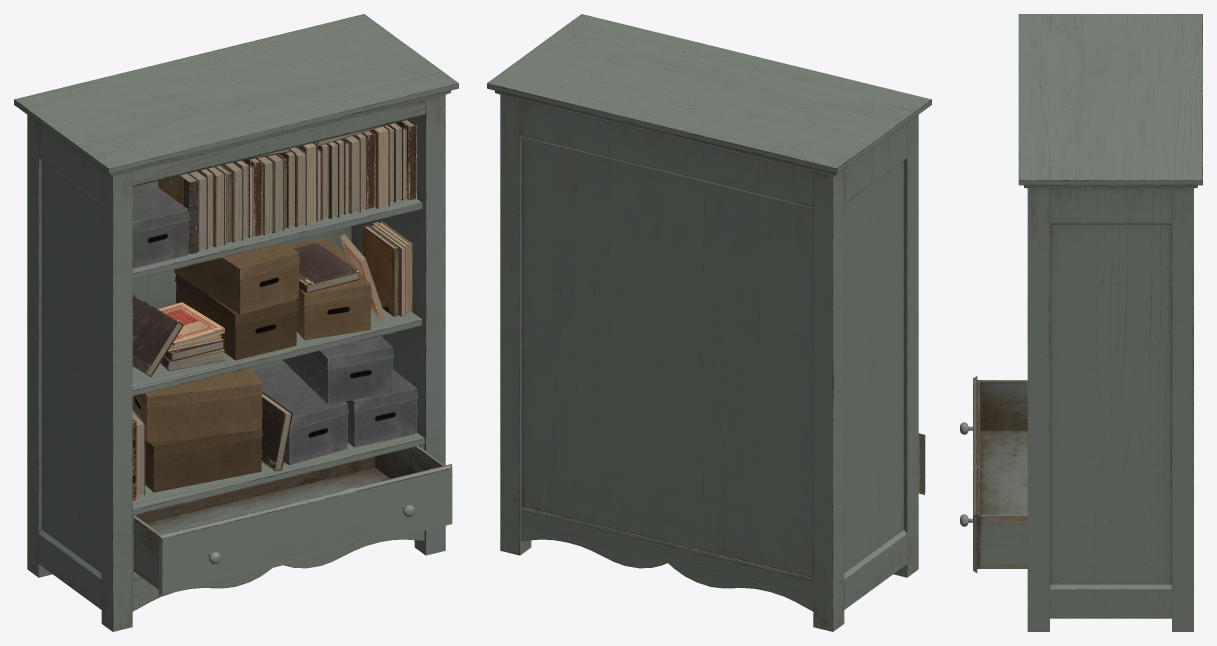
Rendered from wooden_shelf_with_drawer.glb.
3 renders of one model, left to right at view 1: azimuth 30°, elevation 25°; view 2: azimuth 150°, elevation 25°; view 3: azimuth 270°, elevation 25°, orthographic. The views are drawn at different scales.
Parts seen in each view (by area): view 1: Shelf, Drawer, Box.001, Box.004, Box, Box.007, Box.008, Box.002, Box.003, Box.005, Box.006, Book4.016 (+26 smaller); view 2: Shelf; view 3: Shelf, Drawer.
Part boxes in pixels (x1,y1,x2,y2): Shelf: (14, 14, 458, 631); Drawer: (133, 446, 452, 595); Box.001: (132, 367, 263, 442); Box.004: (174, 243, 300, 314); Box: (145, 430, 262, 492); Box.007: (253, 362, 348, 465); Box.008: (282, 336, 393, 404); Box.002: (175, 274, 297, 360); Box.003: (286, 237, 372, 340); Box.005: (132, 182, 189, 268); Box.006: (345, 369, 418, 447); Book4.016: (132, 295, 183, 376); Shelf: (487, 14, 931, 631); Shelf: (1018, 14, 1202, 631); Drawer: (960, 376, 1027, 572).
Bounding box in the file's own units: 1.42 × 1.82 × 0.8784.
11 materials, 11 textured.
